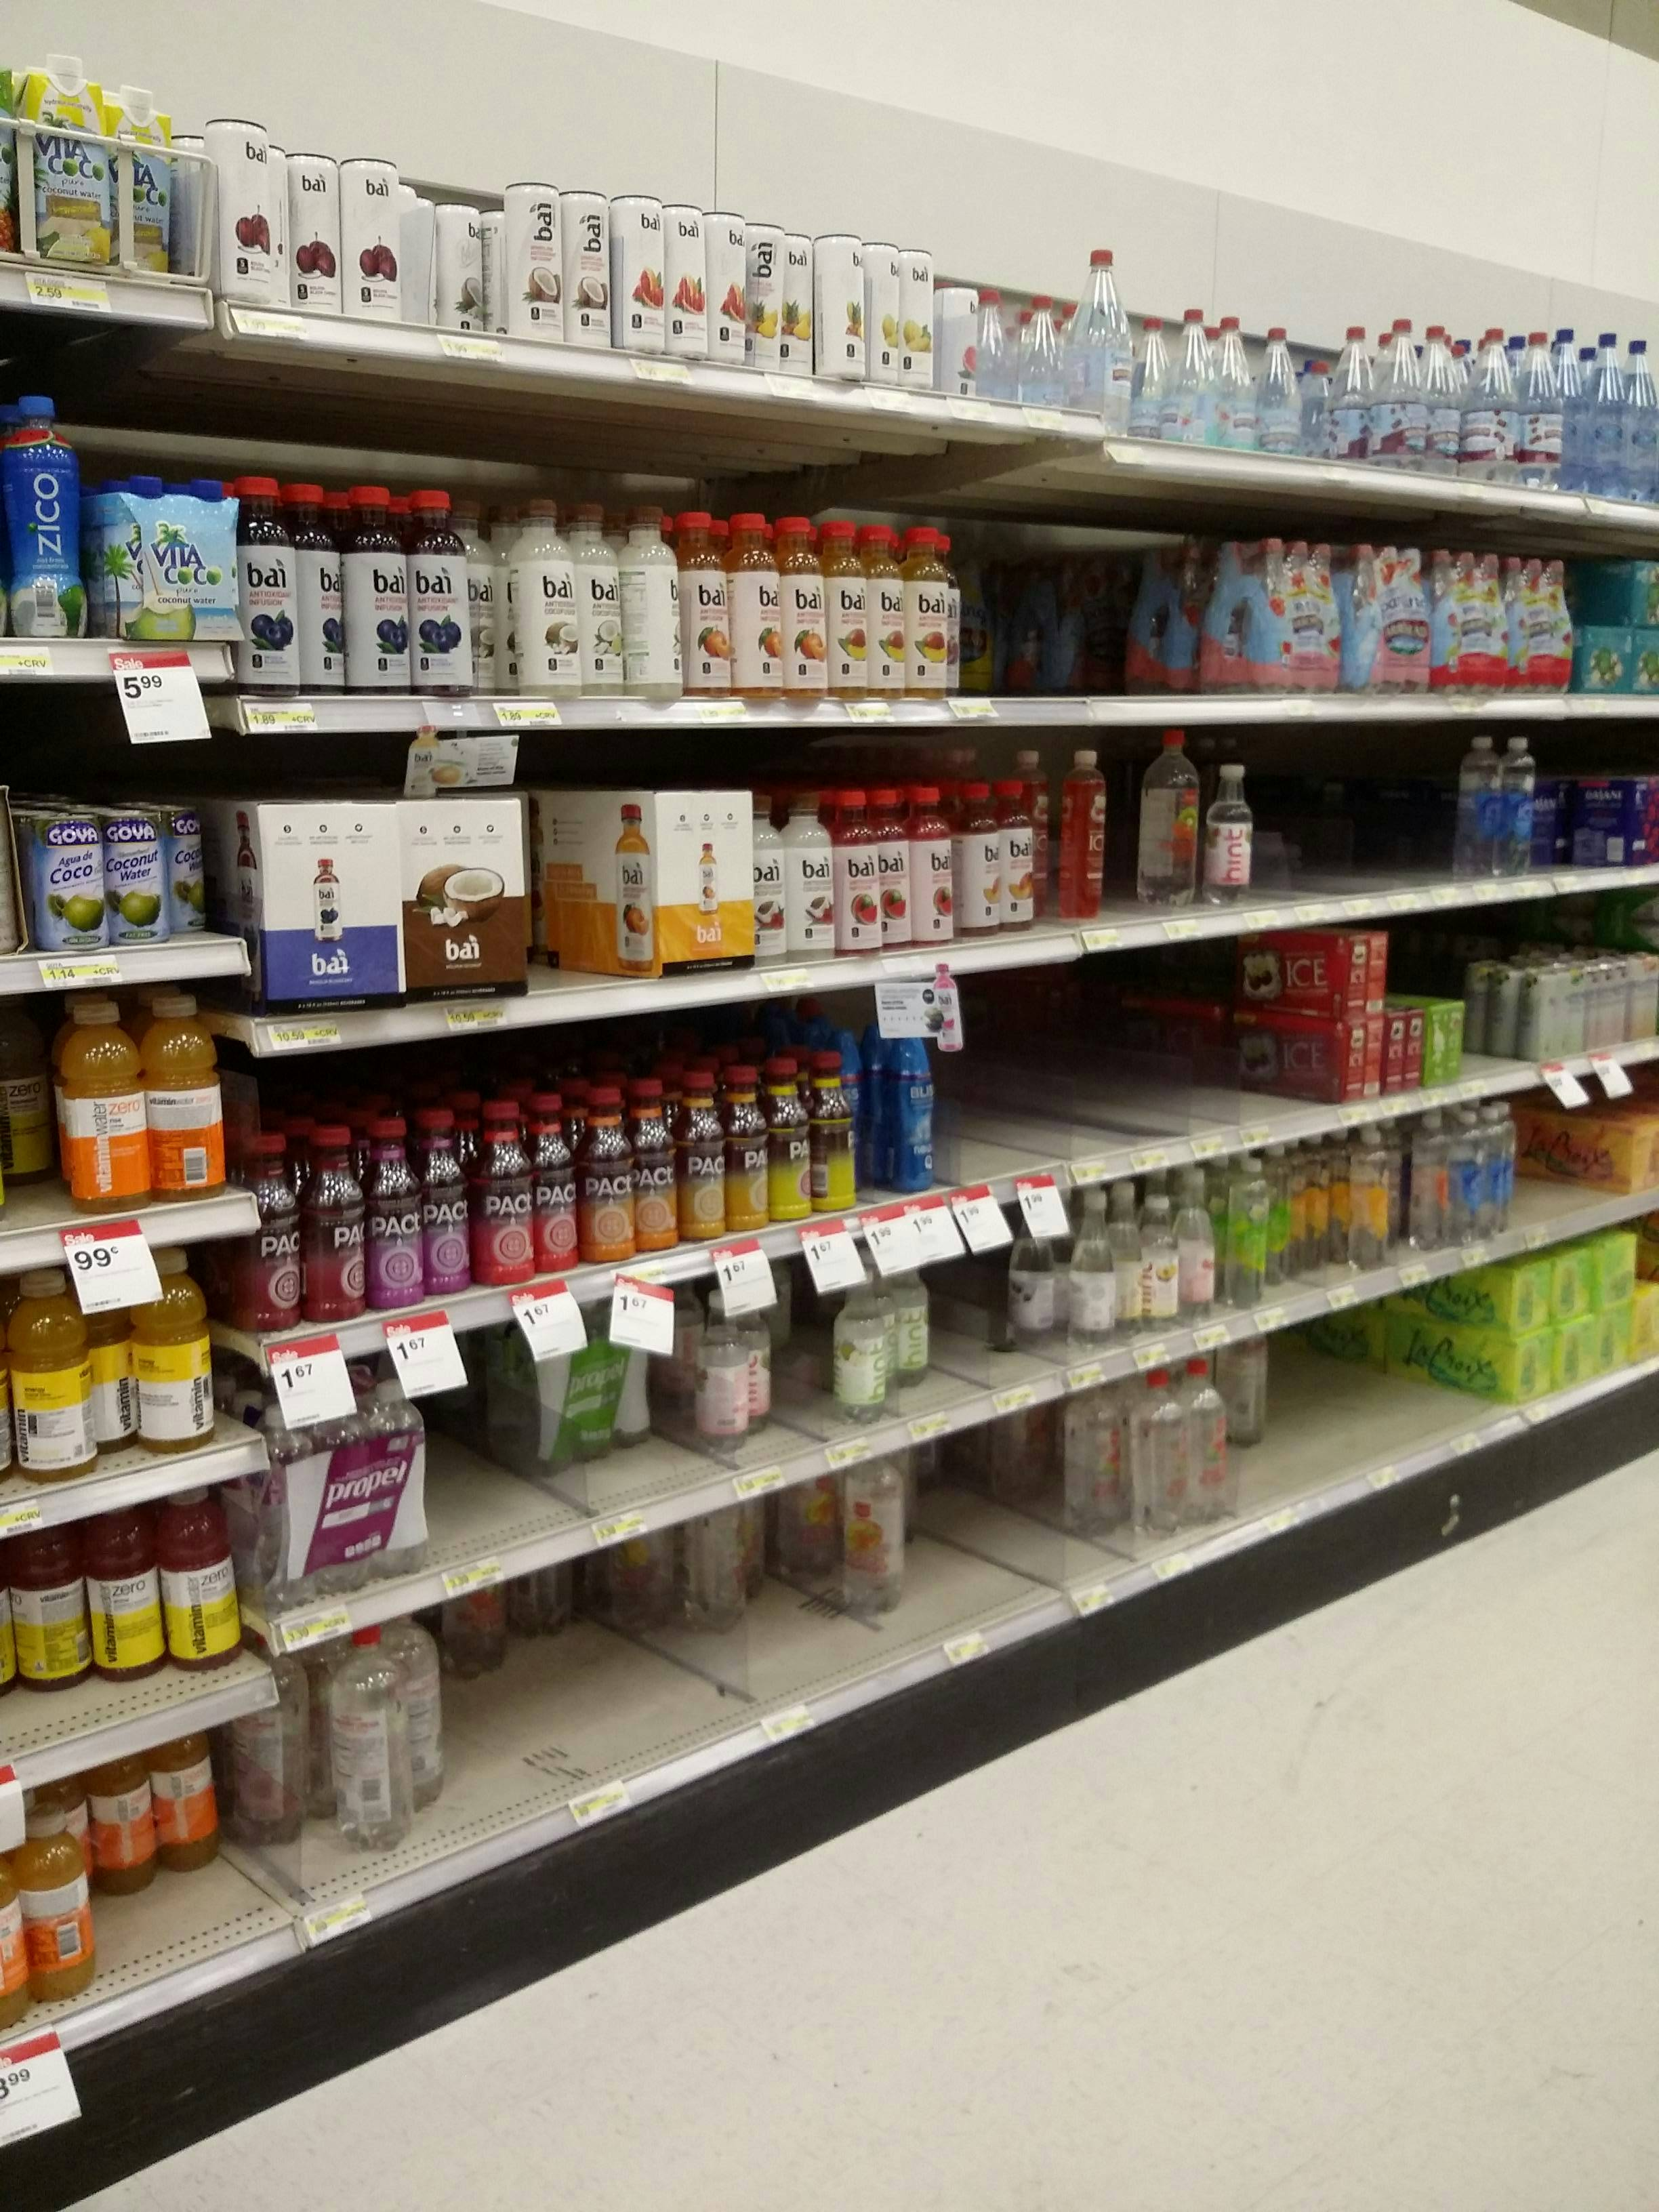Misplacement: (957, 535, 1255, 700), (84, 1752, 268, 2013), (444, 1559, 613, 1818), (16, 1498, 160, 1766), (544, 1317, 718, 1519), (894, 1249, 960, 1426), (836, 1035, 901, 1212), (1220, 1336, 1267, 1533), (746, 1308, 802, 1474)
Out-of-stock: (941, 939, 1326, 1190), (1253, 726, 1460, 920), (1291, 1341, 1488, 1510), (533, 794, 652, 1003), (430, 1390, 559, 1561), (1507, 1125, 1638, 1233), (1462, 972, 1541, 1085)
